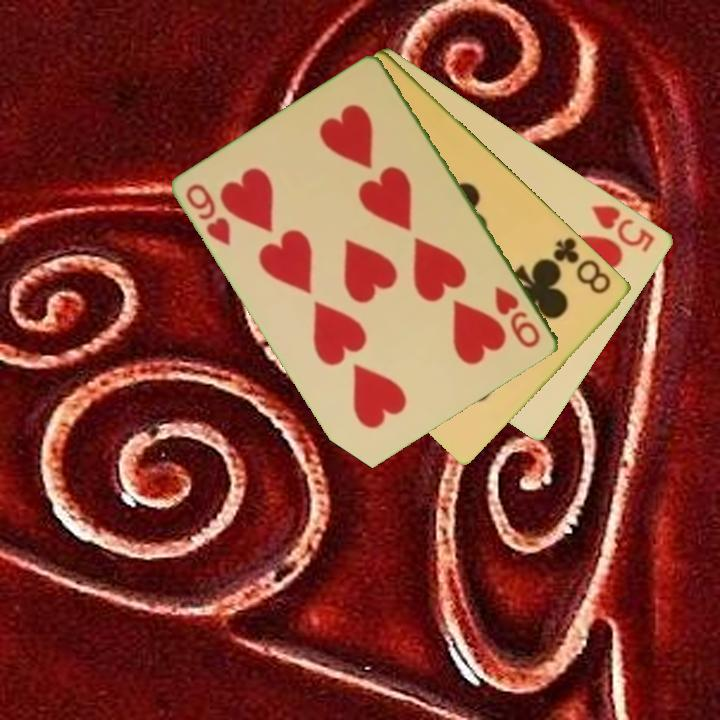5h: (589, 201, 658, 255)
8c: (550, 233, 615, 297)
9h: (491, 282, 544, 351), (182, 180, 234, 249)
